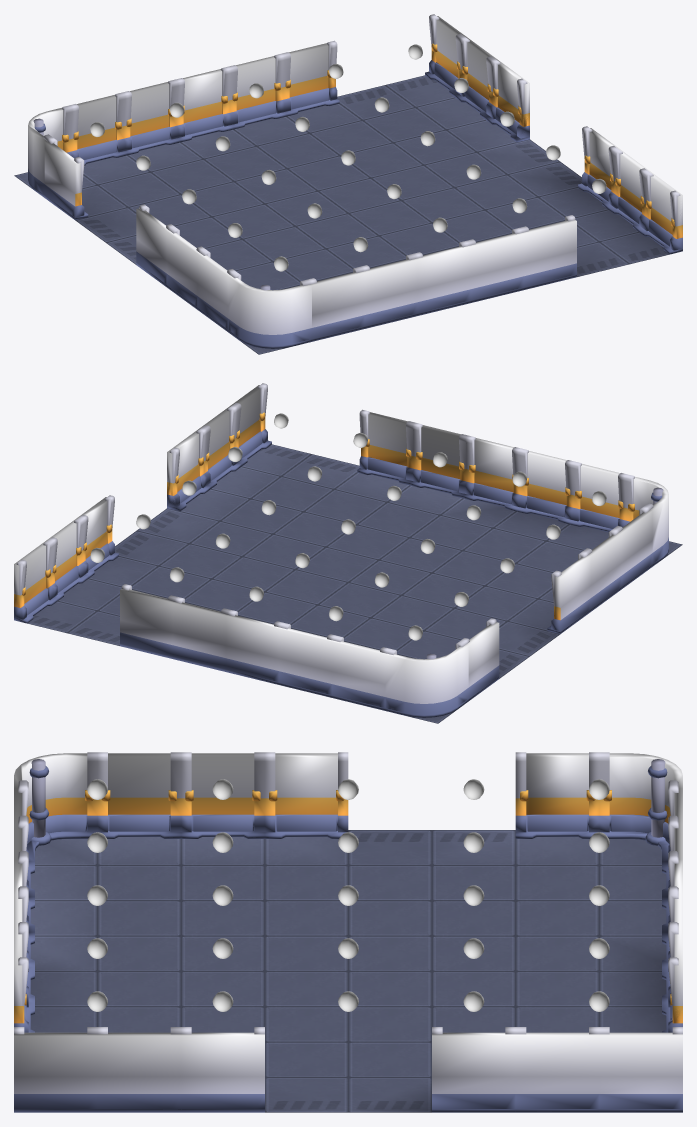
The model's file is skeld.glb.
3 renders of one model, top to bottom at view 1: azimuth 30°, elevation 25°; view 2: azimuth 150°, elevation 25°; view 3: azimuth 270°, elevation 25°, orthographic. The views are drawn at different scales.
Parts seen in each view (by area): view 1: 0-alert_room_model; view 2: 0-alert_room_model; view 3: 0-alert_room_model.
Boxes of the visible parts, x1=… form: 0-alert_room_model: x1=14, y1=14, x2=682, y2=354; 0-alert_room_model: x1=14, y1=383, x2=682, y2=723; 0-alert_room_model: x1=14, y1=752, x2=682, y2=1112.
Bounding box in the file's own units: 32 × 4.5 × 32.
Materials: 1 (1 with a texture image).
